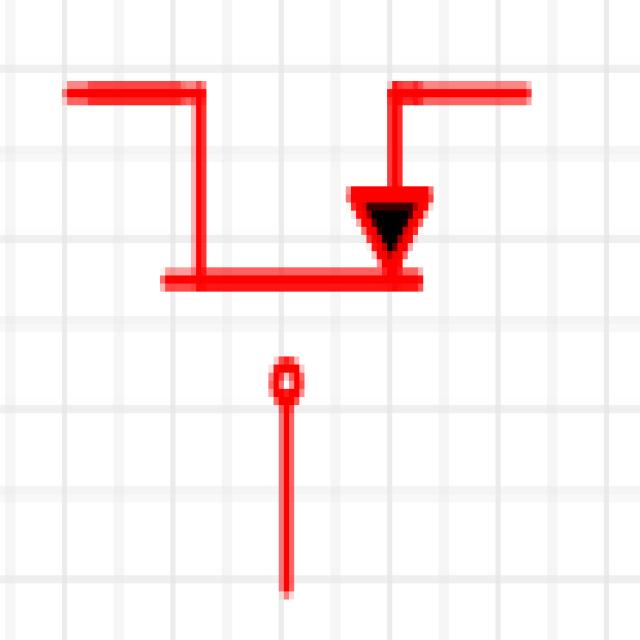pmos: (57, 65, 547, 640)
